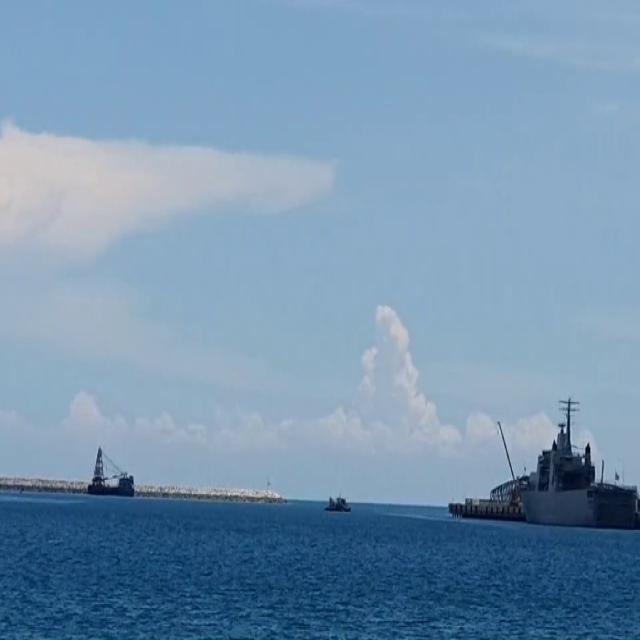civilianship: (89, 437, 146, 512)
warship1: (436, 384, 640, 535)
